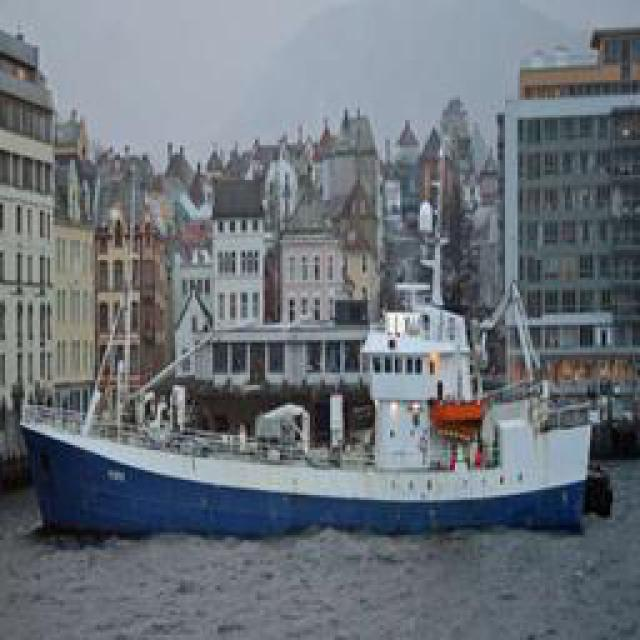Ship: (16, 96, 616, 546)
